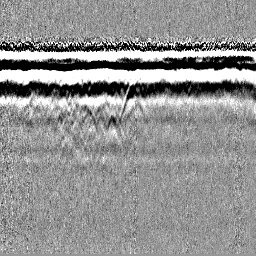cavity: (119, 82, 137, 124)
